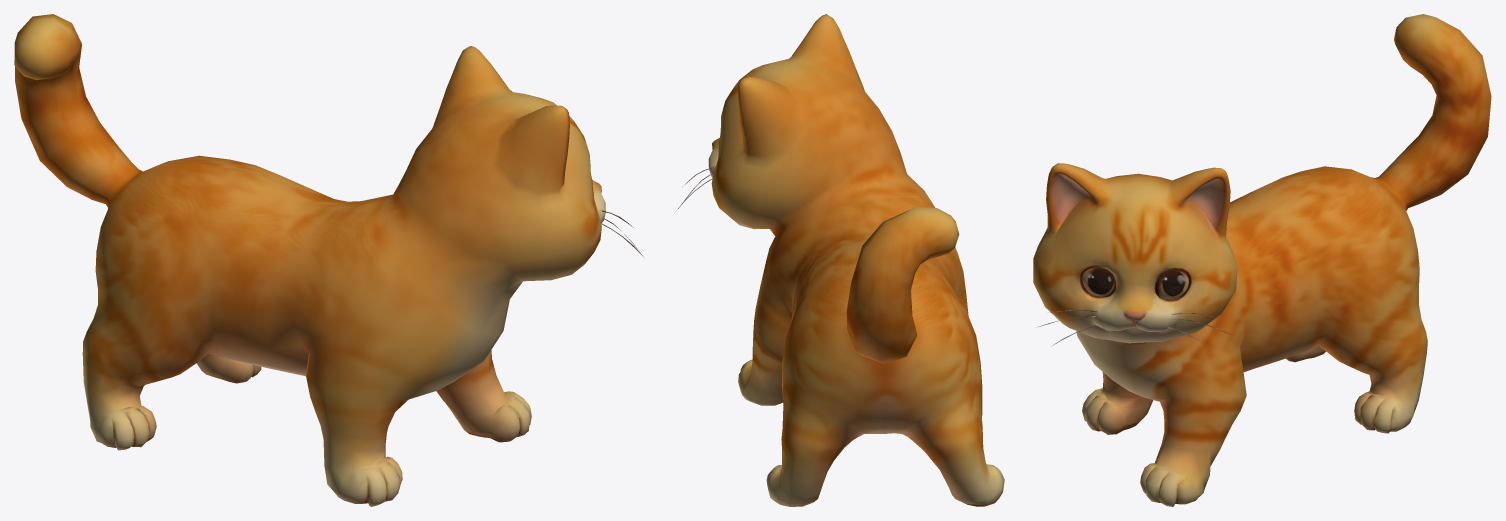
3 views of the same model, side by side, from view 1: azimuth 30°, elevation 25°; view 2: azimuth 150°, elevation 25°; view 3: azimuth 270°, elevation 25° (orthographic). The views are drawn at different scales.
Parts seen in each view (by area): view 1: tripo_node_c03146c3-ffba-4f34-9059-10a0243170b6; view 2: tripo_node_c03146c3-ffba-4f34-9059-10a0243170b6; view 3: tripo_node_c03146c3-ffba-4f34-9059-10a0243170b6.
Part boxes in pixels (box(x1,y1,x2,y2)): tripo_node_c03146c3-ffba-4f34-9059-10a0243170b6: box(14, 14, 644, 506); tripo_node_c03146c3-ffba-4f34-9059-10a0243170b6: box(676, 14, 1004, 506); tripo_node_c03146c3-ffba-4f34-9059-10a0243170b6: box(1033, 14, 1491, 506).
Bounding box in the file's own units: 0.9551 × 0.8301 × 0.998.
Materials: 1 (1 with a texture image).
